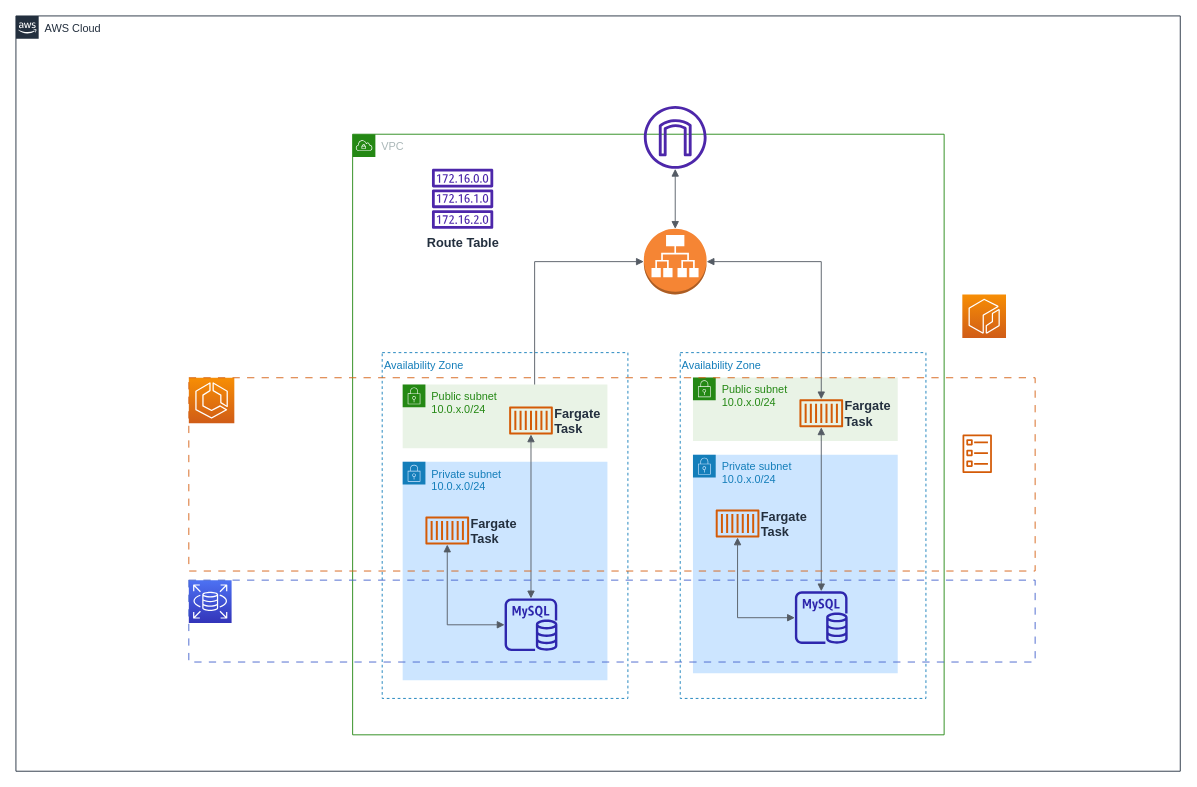
This 1197x787 diagram has some shape labels left out. Here are the shapes that lost their labels. From the top down, the centre of each, then its label:
the point at 674,137: IGW
the point at 675,261: ALB
the point at 983,315: ECR
the point at 211,400: ESC service
the point at 977,453: Task Definition
the point at 210,601: RDS
